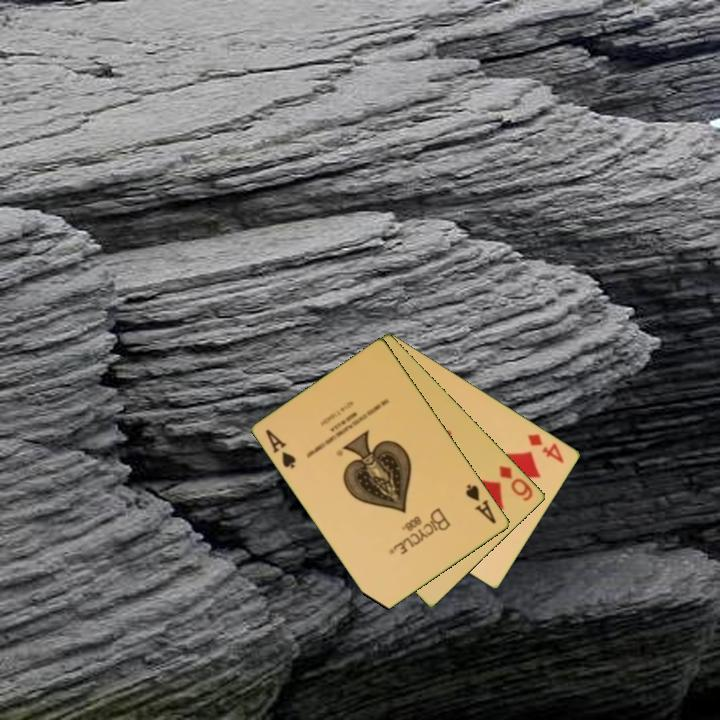4d: (524, 430, 568, 466)
6d: (495, 462, 536, 504)
As: (462, 480, 499, 527), (262, 426, 299, 472)
